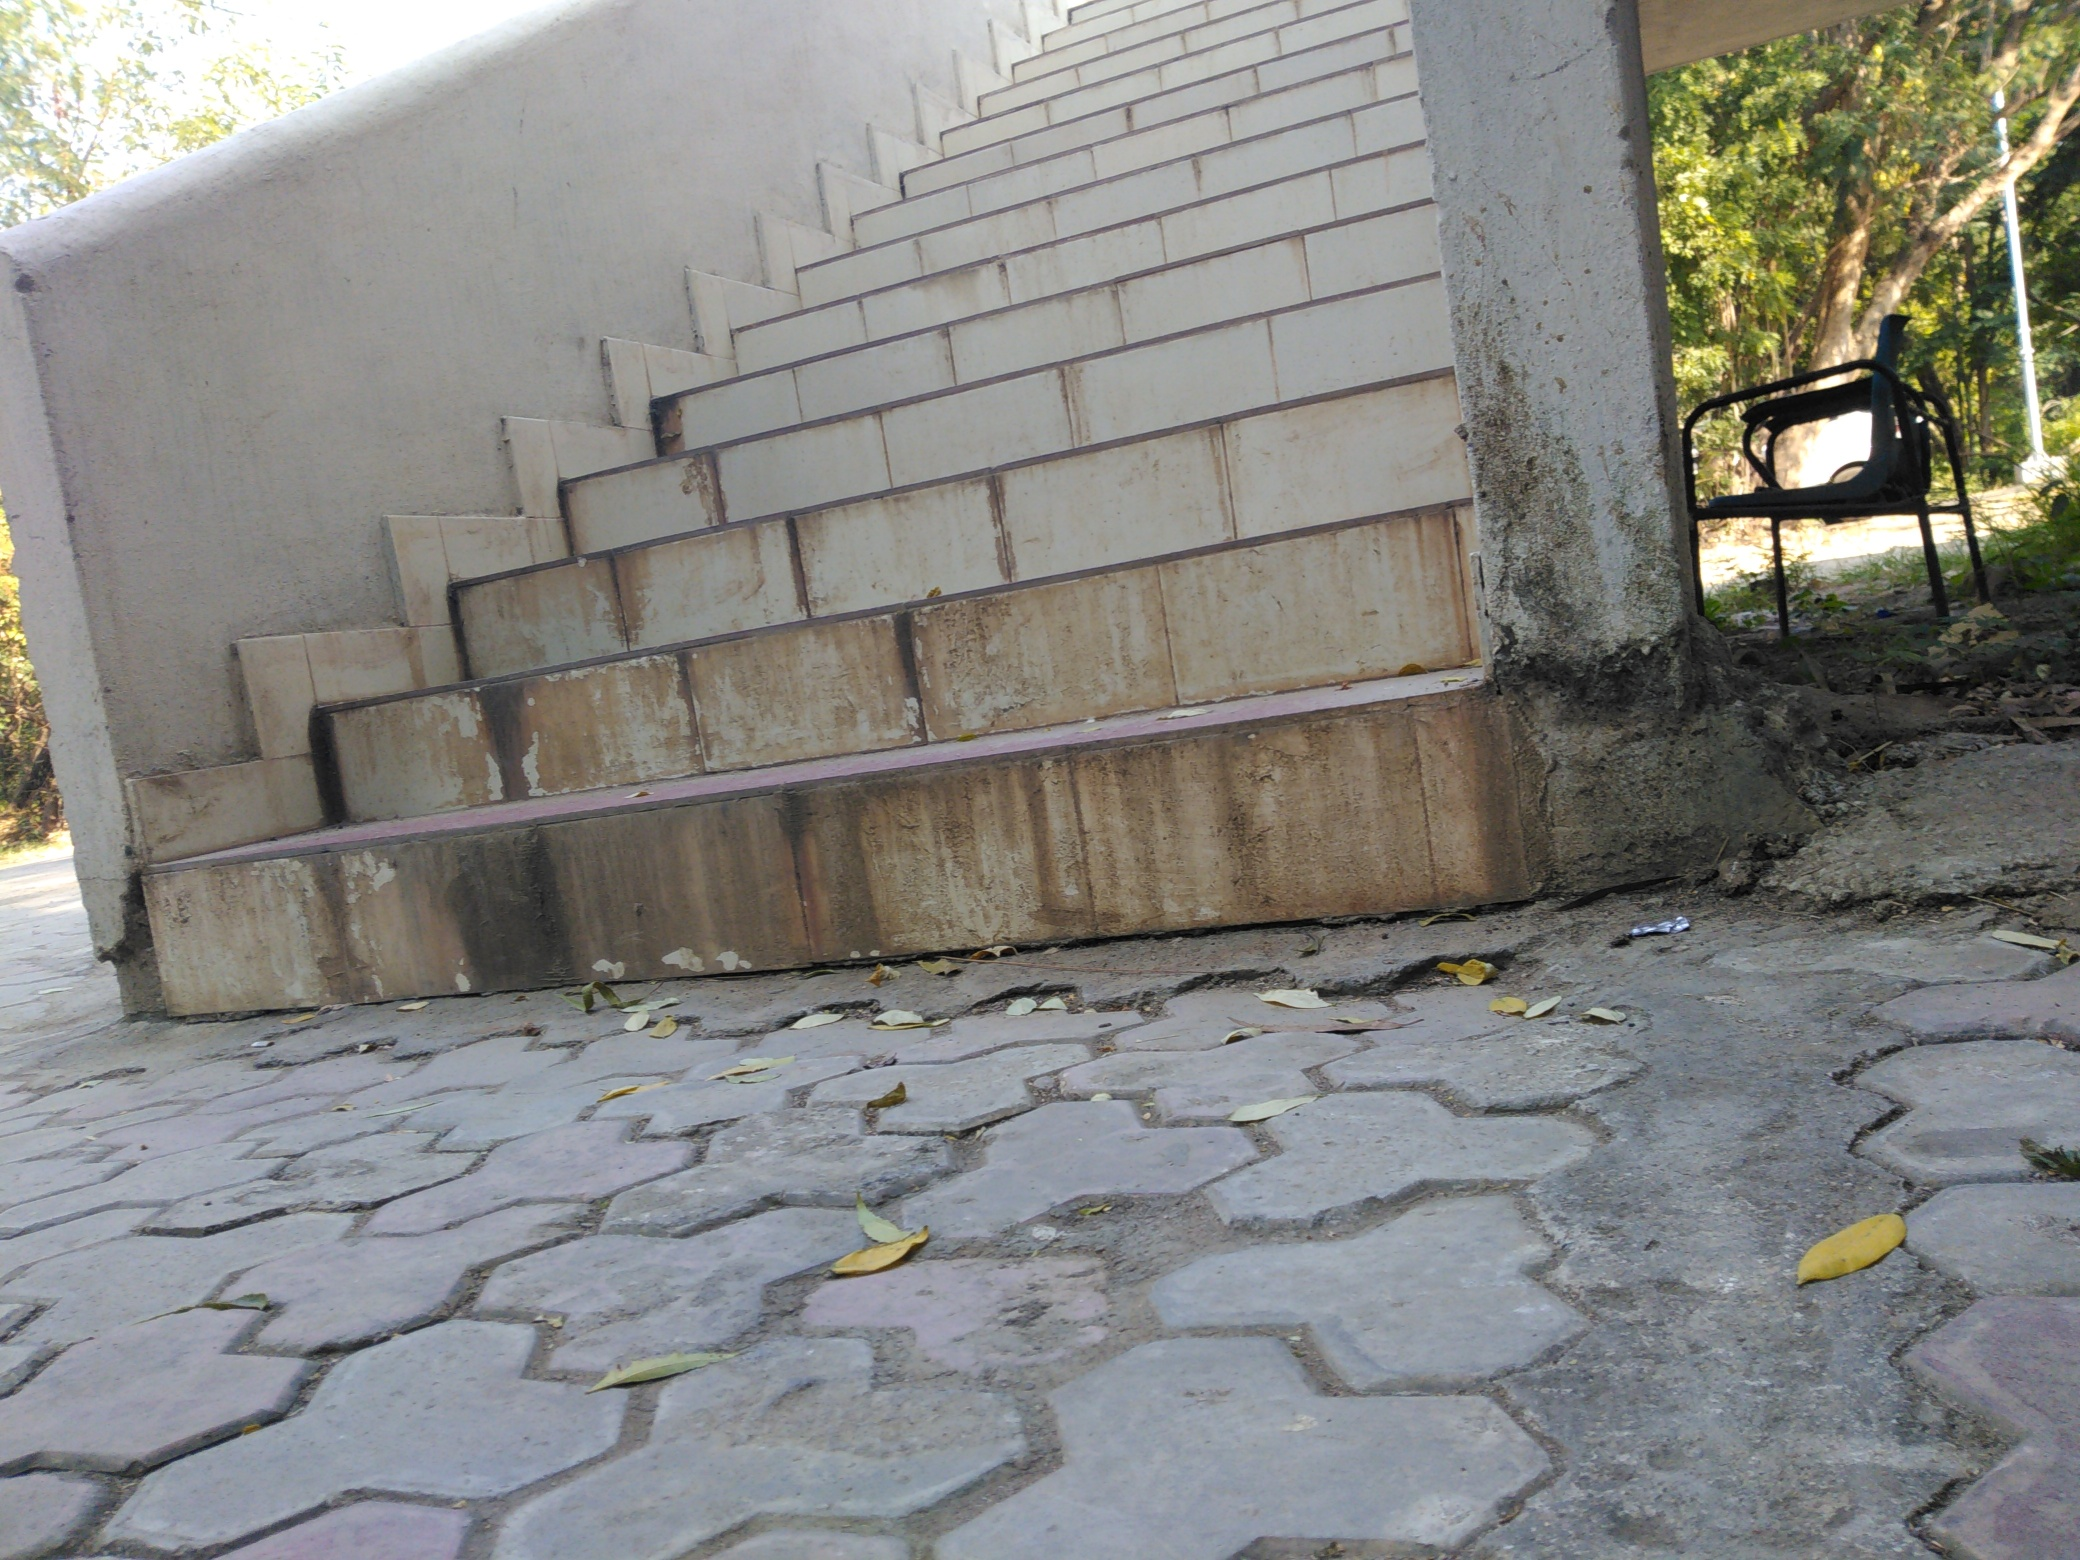stairs_up: (82, 8, 1494, 1039)
